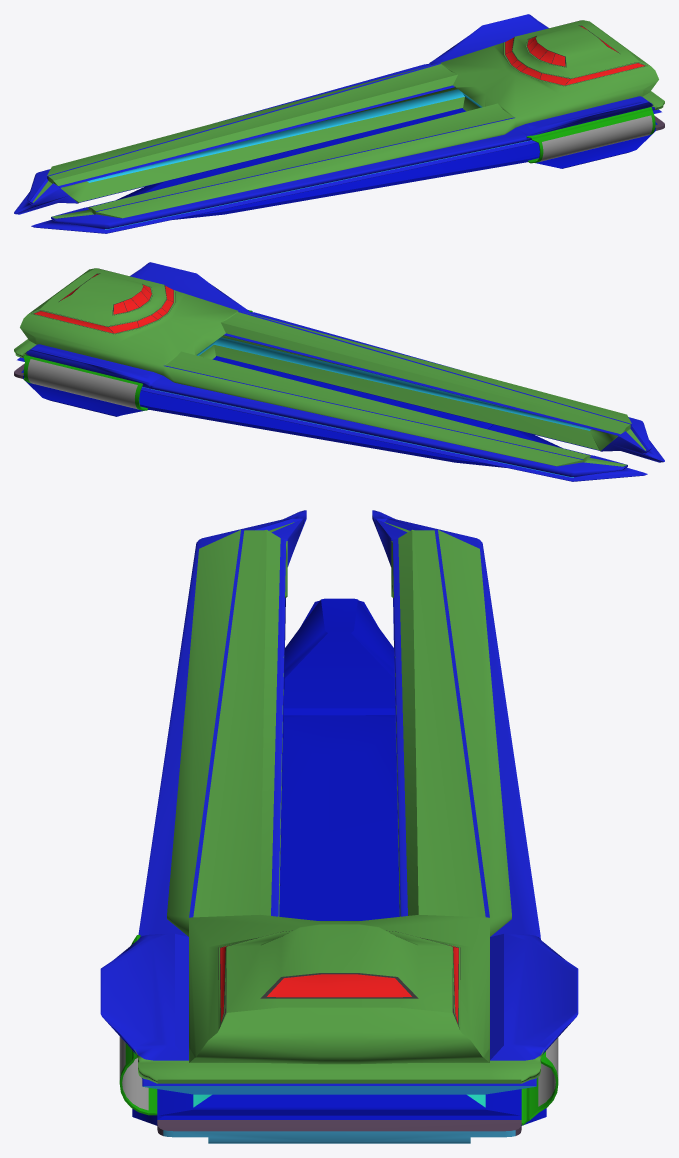
Rendered from Empirer Carrier 1.FBX.
The picture shows the model from 3 angles, top to bottom: view 1: azimuth 30°, elevation 25°; view 2: azimuth 150°, elevation 25°; view 3: azimuth 270°, elevation 25°; orthographic projection. The views are drawn at different scales.
Visible parts, largest first — view 1: Upper Carrier Hull, Lower carrier hull, Tube003; view 2: Upper Carrier Hull, Lower carrier hull, Tube002; view 3: Upper Carrier Hull, Lower carrier hull, Tube003, Tube002.
Boxes of the visible parts, box(x1,y1,x2,y2) form: Upper Carrier Hull: box(14, 14, 664, 233); Lower carrier hull: box(117, 108, 664, 219); Tube003: box(526, 107, 655, 163); Upper Carrier Hull: box(14, 262, 664, 481); Lower carrier hull: box(14, 356, 561, 467); Tube002: box(23, 355, 147, 410); Upper Carrier Hull: box(100, 510, 578, 1094); Lower carrier hull: box(132, 598, 546, 1143); Tube003: box(119, 935, 157, 1115); Tube002: box(521, 1037, 558, 1125).
Size of the model in its own units: 221 by 30.47 by 76.14.
